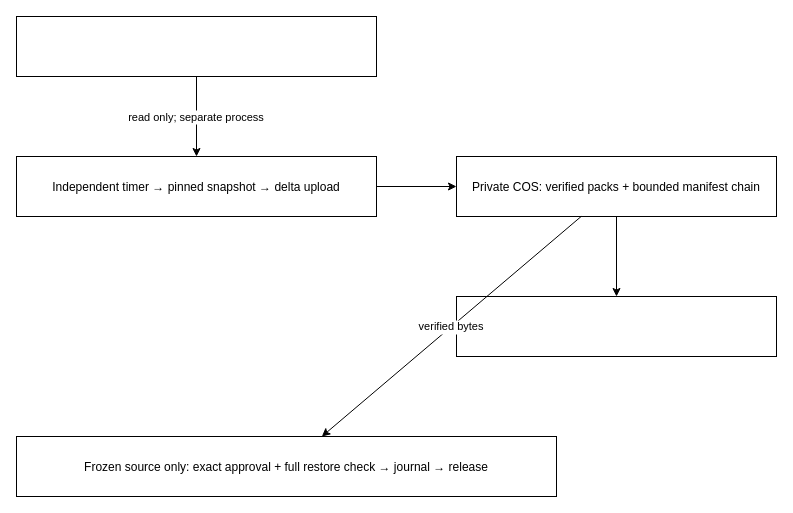
This 793x513 diagram has some shape labels left out. Here are the shapes that lost their labels. From the top down, the centre of each, then its label:
At (196,46): "Trading worker → local evidence + authoritative ledger".
At (616,326): "Research lease → verified local cache → offline replay".
